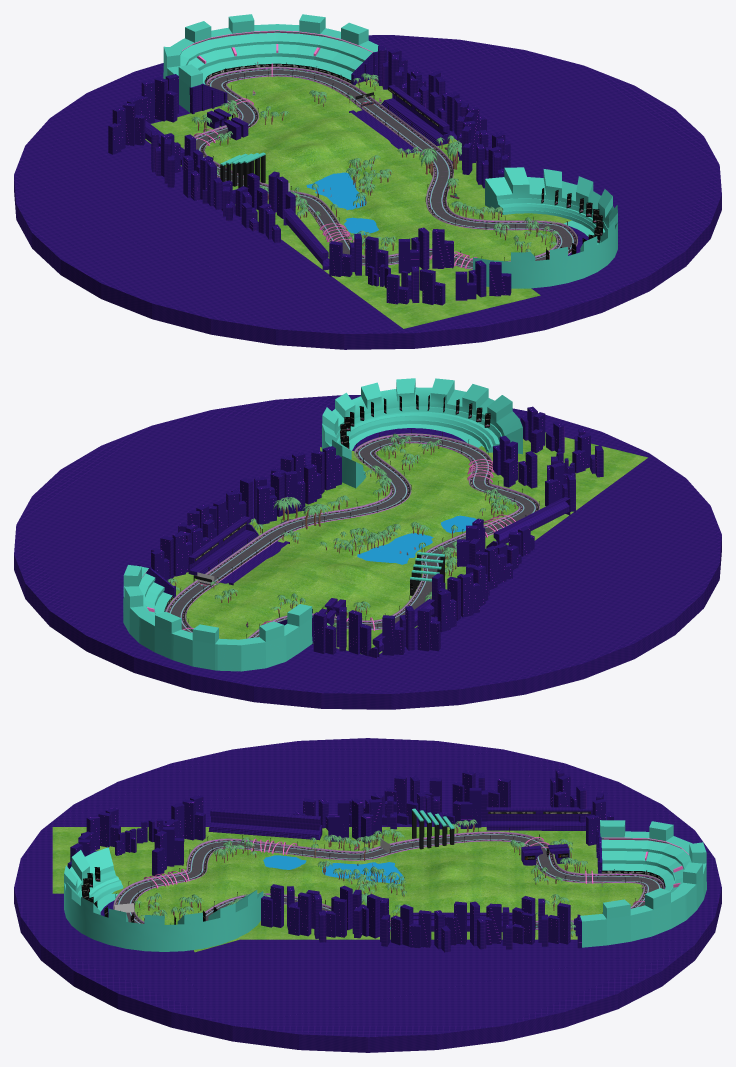
File: track4.glb
3 views of the same model, one above another, from view 1: azimuth 30°, elevation 25°; view 2: azimuth 150°, elevation 25°; view 3: azimuth 270°, elevation 25° (orthographic).
Parts seen in each view (by area): view 1: SM_BuildingArc, SM_Grass, SM_Palm, SM_Track, SM_Water, Flag.002; view 2: SM_BuildingArc, SM_Grass, SM_Palm, SM_Track, SM_Water, Flag.002; view 3: SM_BuildingArc, SM_Grass, SM_Palm, SM_Track, SM_Water, Flag.002.
Part boxes in pixels (<box>): SM_BuildingArc: <box>14,35,721,349</box>; SM_Grass: <box>145,76,571,328</box>; SM_Palm: <box>163,14,617,288</box>; SM_Track: <box>183,66,577,269</box>; SM_Water: <box>306,172,378,234</box>; Flag.002: <box>227,115,603,259</box>; SM_BuildingArc: <box>14,395,721,709</box>; SM_Grass: <box>169,432,647,654</box>; SM_Palm: <box>123,378,539,671</box>; SM_Track: <box>165,433,539,638</box>; SM_Water: <box>357,515,476,564</box>; Flag.002: <box>322,394,490,612</box>; SM_BuildingArc: <box>14,738,721,1052</box>; SM_Grass: <box>52,827,643,952</box>; SM_Palm: <box>64,808,706,951</box>; SM_Track: <box>113,831,664,929</box>; SM_Water: <box>263,855,403,884</box>; Flag.002: <box>81,849,548,924</box>.
Size of what is drawn, in the model's own units: 113 by 10.76 by 113.
15 materials, 14 textured.
